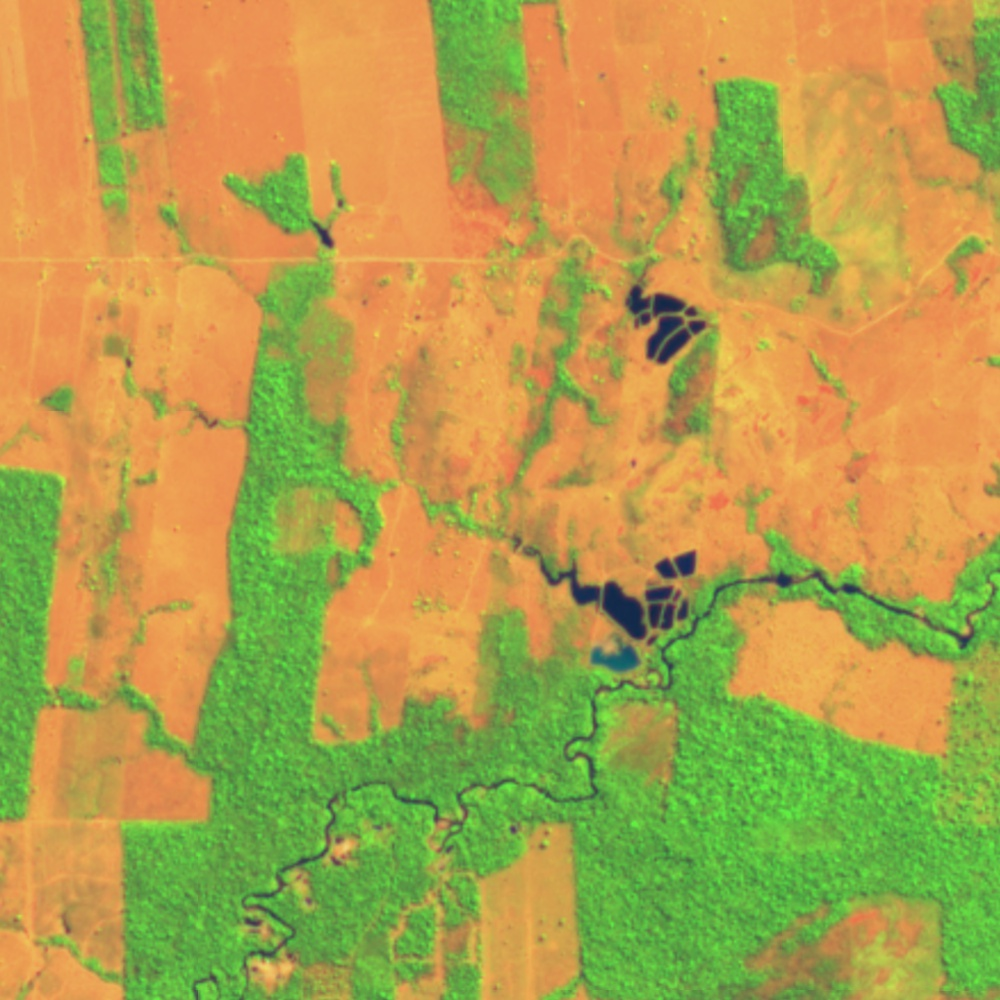illegal: (499, 526, 702, 679), (284, 821, 381, 914), (622, 281, 710, 368), (234, 903, 301, 995), (304, 195, 347, 254), (435, 810, 470, 856)
